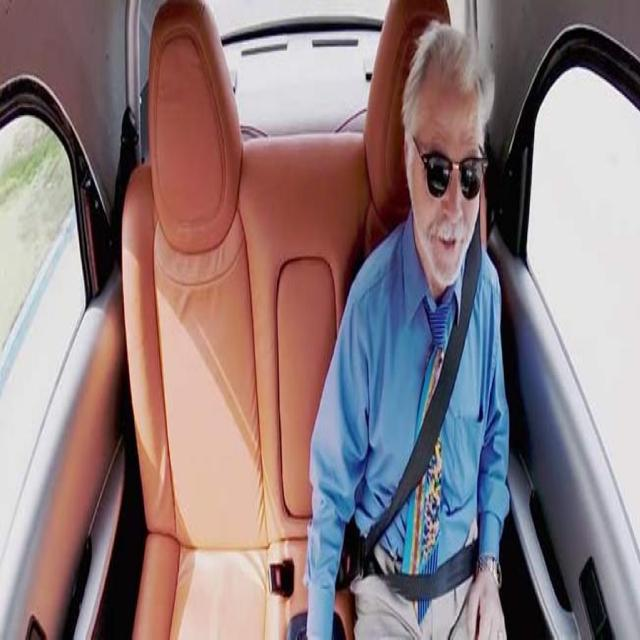Face: (410, 67, 496, 294)
